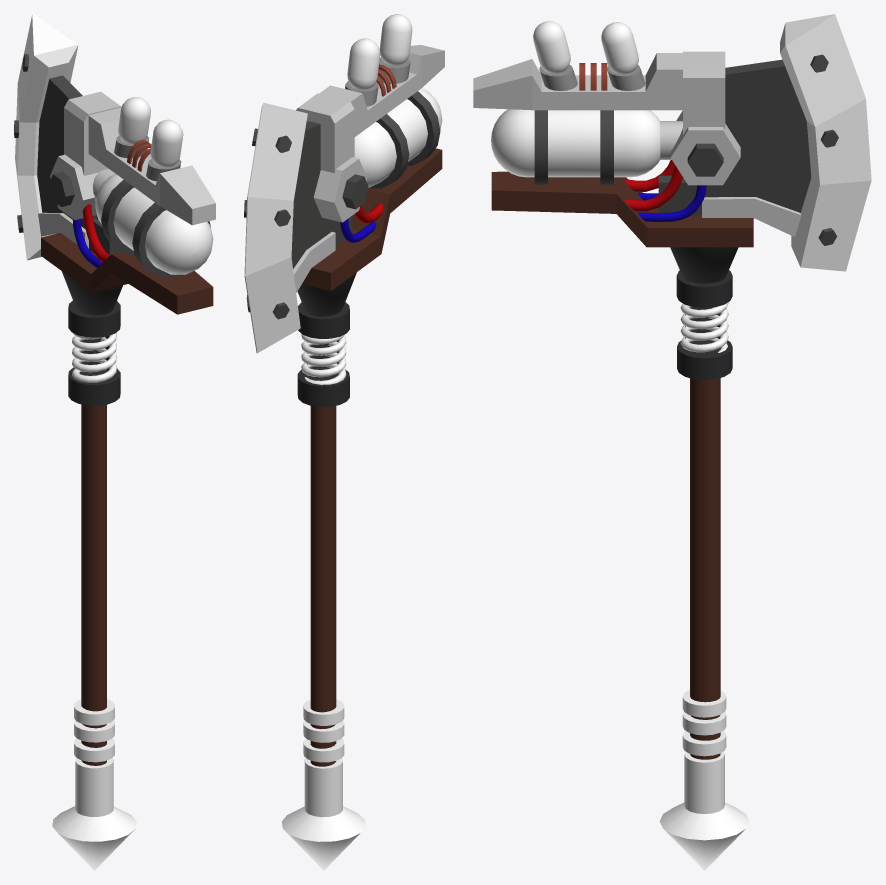
File: axe2.fbx
3 views of the same model, side by side, from view 1: azimuth 30°, elevation 25°; view 2: azimuth 150°, elevation 25°; view 3: azimuth 270°, elevation 25° (orthographic). The views are drawn at different scales.
Parts seen in each view (by area): view 1: Cylinder, Cube, Cube.001, Cube.003, Cylinder.008, Cylinder.001, Cube.002, Cylinder.006, Cube.004, Cylinder.009, Cylinder.003, Circle (+8 smaller); view 2: Cube, Cylinder, Cylinder.001, Cube.001, Cylinder.008, Cube.002, Cube.003, Cylinder.006, Cube.004, Cylinder.003, Cylinder.009, Cylinder.015 (+8 smaller); view 3: Cube, Cube.002, Cylinder, Cylinder.008, Cube.001, Cube.003, Cylinder.001, Cylinder.006, Cube.004, Cylinder.015, Cylinder.003, Cube.007 (+8 smaller).
Part boxes in pixels (<box>): Cylinder: <box>81,404,106,765</box>; Cube: <box>15,14,78,260</box>; Cube.001: <box>41,233,213,314</box>; Cube.003: <box>88,107,215,225</box>; Cylinder.008: <box>95,174,213,274</box>; Cylinder.001: <box>52,758,136,870</box>; Cube.002: <box>37,75,122,254</box>; Cylinder.006: <box>68,301,120,405</box>; Cube.004: <box>64,91,121,175</box>; Cylinder.009: <box>101,179,210,277</box>; Cylinder.003: <box>74,699,114,762</box>; Circle: <box>72,332,116,382</box>; Cube: <box>244,102,307,353</box>; Cylinder: <box>310,406,336,766</box>; Cylinder.001: <box>281,758,365,870</box>; Cube.001: <box>302,148,442,291</box>; Cylinder.008: <box>354,88,442,187</box>; Cube.002: <box>291,121,352,268</box>; Cube.003: <box>319,45,444,136</box>; Cylinder.006: <box>297,302,349,407</box>; Cube.004: <box>296,93,354,173</box>; Cylinder.003: <box>303,699,344,762</box>; Cylinder.009: <box>368,91,440,188</box>; Cylinder.015: <box>313,157,367,222</box>; Cube: <box>780,14,871,271</box>; Cube.002: <box>658,59,811,215</box>; Cylinder: <box>690,378,720,759</box>; Cylinder.008: <box>491,109,660,177</box>; Cube.001: <box>491,171,753,247</box>; Cube.003: <box>473,53,682,110</box>; Cylinder.001: <box>659,751,749,870</box>; Cylinder.006: <box>676,270,732,380</box>; Cube.004: <box>683,51,725,134</box>; Cylinder.015: <box>670,110,740,185</box>; Cylinder.003: <box>682,690,726,756</box>; Cube.007: <box>702,197,801,236</box>.
Bounding box in the file's own units: 13.4 × 141 × 59.3.
